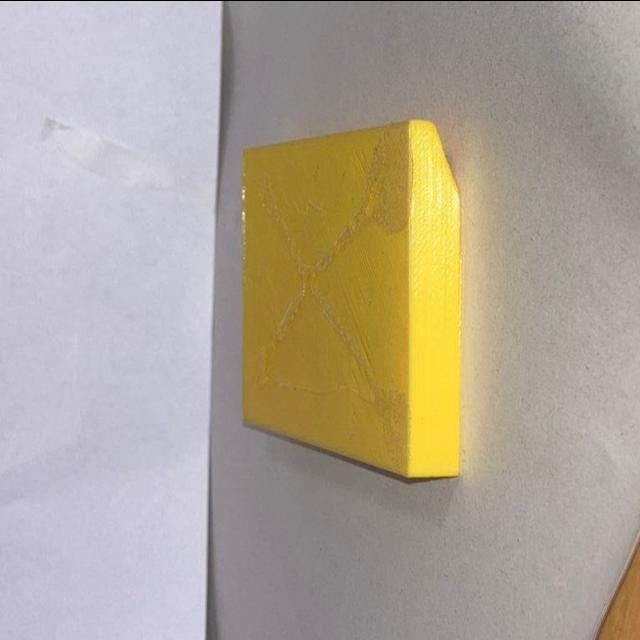Warping: (422, 116, 462, 230)
